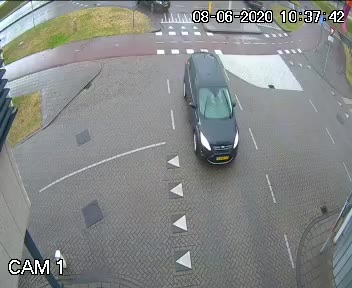car: (177, 50, 248, 172)
